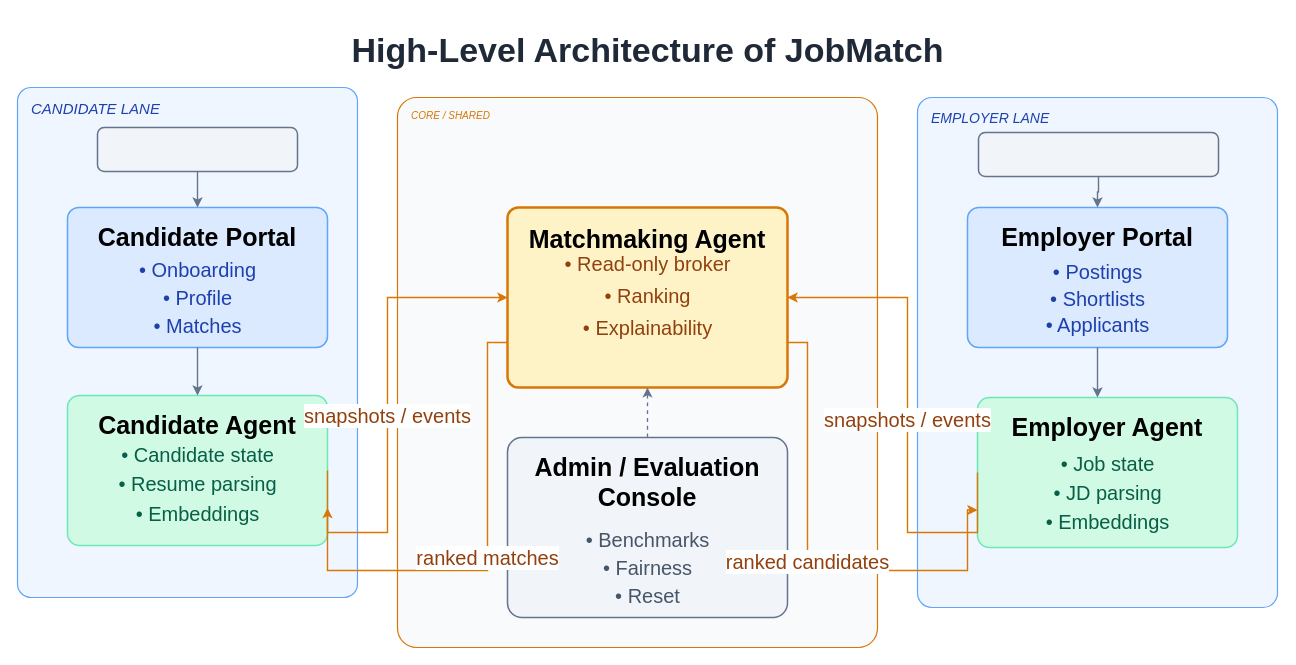
The diagram is 1296 pixels wide and 665 high, and some of its shapes have lost their labels. The shapes that lost their labels are listed below. From the top down, each one's centre as x and y in pixels, then its label:
At [197,149]: "Job Seeker".
At [1098,154]: "Employer / Recruiter".
